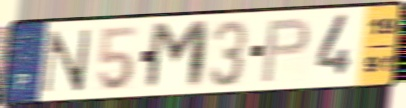3: (208, 16, 250, 89)
4: (314, 11, 357, 84)
5: (96, 23, 140, 92)
M: (142, 18, 213, 93)
N: (39, 26, 94, 95)
P: (258, 16, 312, 85)
